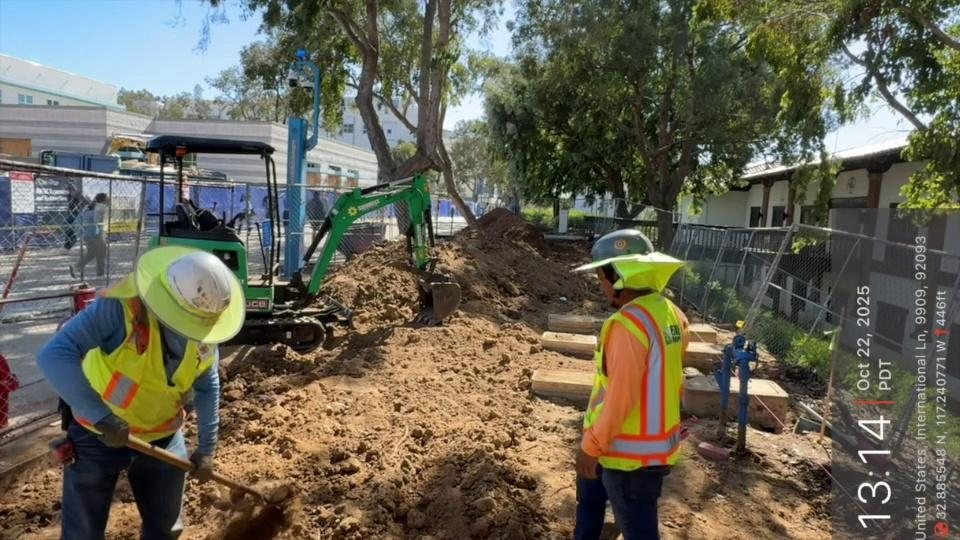Exacavator: (111, 116, 514, 349)
